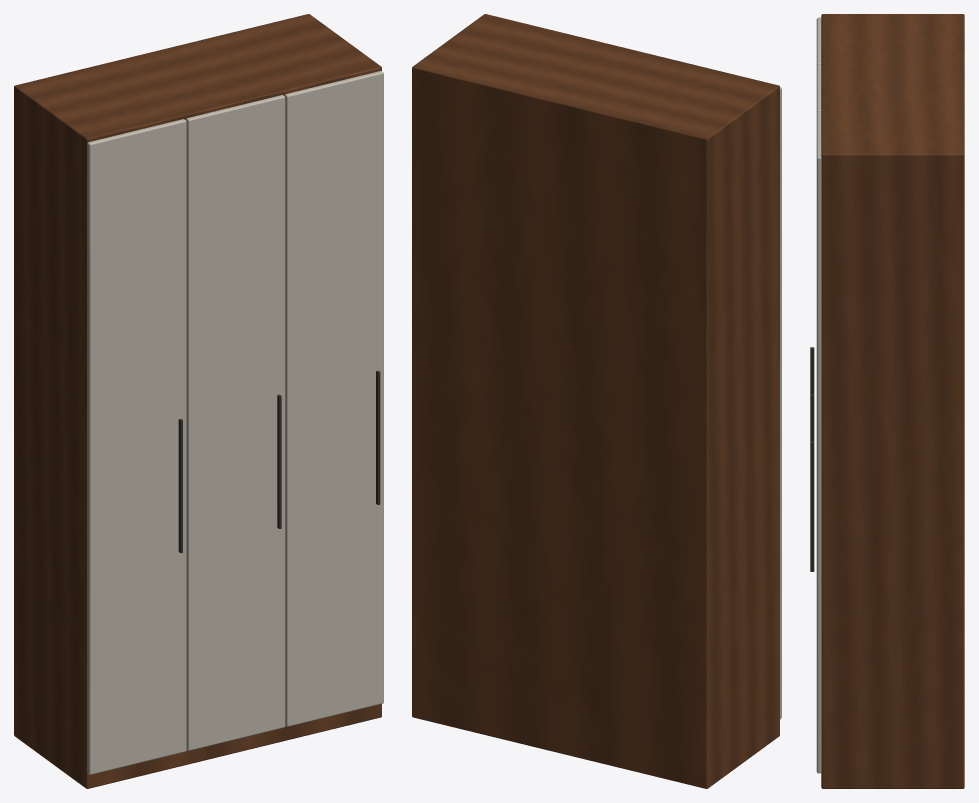
The model's file is quiet-greige-wardrobe.glb.
3 renders of one model, left to right at view 1: azimuth 30°, elevation 25°; view 2: azimuth 150°, elevation 25°; view 3: azimuth 270°, elevation 25°, orthographic. The views are drawn at different scales.
Parts seen in each view (by area): view 1: Full height greige door, Recessed walnut carcass, Slender bronze pull; view 2: Recessed walnut carcass, Full height greige door; view 3: Recessed walnut carcass, Full height greige door, Slender bronze pull.
Boxes of the visible parts, bbox=[...] form: Full height greige door: bbox=[87, 71, 383, 774]; Recessed walnut carcass: bbox=[14, 14, 381, 788]; Slender bronze pull: bbox=[178, 370, 380, 552]; Recessed walnut carcass: bbox=[412, 14, 779, 788]; Full height greige door: bbox=[780, 87, 781, 719]; Recessed walnut carcass: bbox=[821, 14, 964, 788]; Full height greige door: bbox=[816, 17, 821, 773]; Slender bronze pull: bbox=[810, 347, 814, 571].
Bounding box in the file's own units: 1.28 × 2.69 × 0.593.
3 materials, 1 textured.
